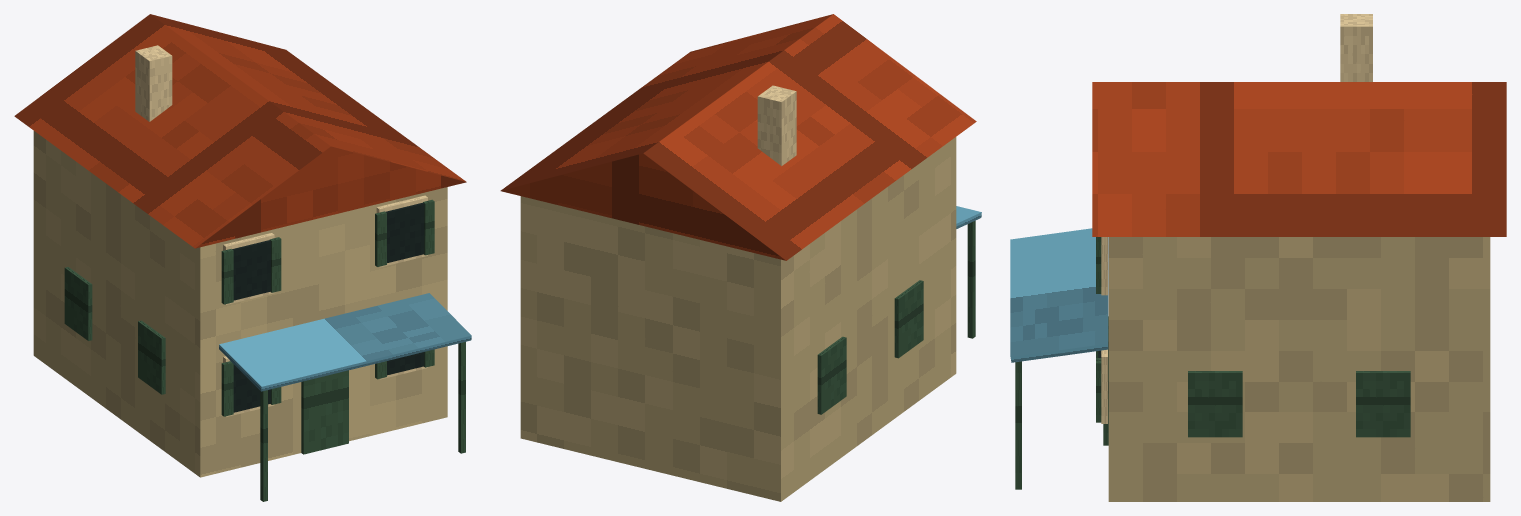
The model's file is Shop.fbx.
3 views of the same model, side by side, from view 1: azimuth 30°, elevation 25°; view 2: azimuth 150°, elevation 25°; view 3: azimuth 270°, elevation 25° (orthographic). The views are drawn at different scales.
Visible parts, largest first — view 1: Paredes.017, Telhado duas águas.017, Toldo.002, Porta.017, Chaminé.015, Janela.050, Janela.051, Janela lateral.069, Janela lateral.068, Janela.048, Pilar toldo.004, Pilar toldo.005 (+8 smaller); view 2: Paredes.017, Telhado duas águas.017, Chaminé.015, Janela lateral.069, Janela lateral.068, Pilar toldo.004; view 3: Paredes.017, Telhado duas águas.017, Toldo.002, Janela lateral.070, Janela lateral.071, Chaminé.015, Pilar toldo.005.
Boxes of the visible parts, x1=… form: Paredes.017: x1=33, y1=131, x2=447, y2=477; Telhado duas águas.017: x1=14, y1=14, x2=466, y2=248; Toldo.002: x1=219, y1=293, x2=471, y2=391; Porta.017: x1=301, y1=370, x2=348, y2=454; Chaminé.015: x1=135, y1=45, x2=172, y2=121; Janela.050: x1=232, y1=240, x2=270, y2=300; Janela.051: x1=385, y1=202, x2=424, y2=262; Janela lateral.069: x1=64, y1=267, x2=92, y2=340; Janela lateral.068: x1=138, y1=320, x2=165, y2=394; Janela.048: x1=233, y1=364, x2=270, y2=412; Pilar toldo.004: x1=260, y1=390, x2=267, y2=501; Pilar toldo.005: x1=458, y1=342, x2=465, y2=453; Paredes.017: x1=520, y1=137, x2=956, y2=501; Telhado duas águas.017: x1=500, y1=14, x2=976, y2=260; Chaminé.015: x1=757, y1=85, x2=796, y2=165; Janela lateral.069: x1=817, y1=336, x2=846, y2=414; Janela lateral.068: x1=894, y1=280, x2=923, y2=358; Pilar toldo.004: x1=967, y1=220, x2=975, y2=338; Paredes.017: x1=1108, y1=237, x2=1490, y2=501; Telhado duas águas.017: x1=1092, y1=82, x2=1506, y2=236; Toldo.002: x1=1010, y1=228, x2=1108, y2=362; Janela lateral.070: x1=1188, y1=371, x2=1242, y2=437; Janela lateral.071: x1=1356, y1=371, x2=1410, y2=437; Chaminé.015: x1=1340, y1=14, x2=1372, y2=81; Pilar toldo.005: x1=1015, y1=361, x2=1021, y2=489.
Bounding box in the file's own units: 660 × 765 × 910.
6 materials, 6 textured.
